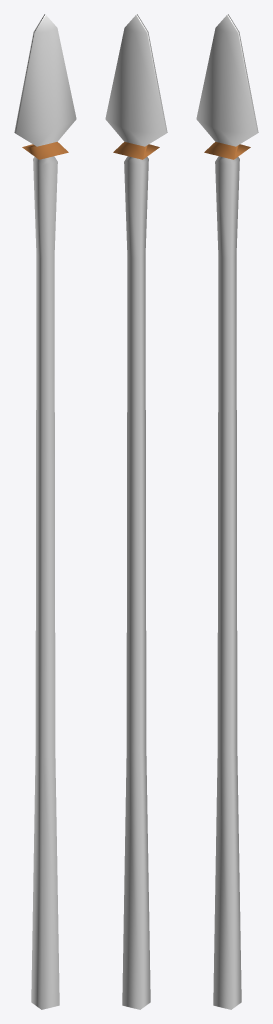
File: spear.fbx
3 renders of one model, left to right at view 1: azimuth 30°, elevation 25°; view 2: azimuth 150°, elevation 25°; view 3: azimuth 330°, elevation 25°, orthographic.
Visible parts, largest first — view 1: spear; view 2: spear; view 3: spear.
Boxes of the visible parts, bbox=[...] form: spear: bbox=[14, 14, 76, 1009]; spear: bbox=[105, 14, 167, 1009]; spear: bbox=[196, 14, 258, 1009].
Bounding box in the file's own units: 0.1615 × 2.52 × 0.0799.
